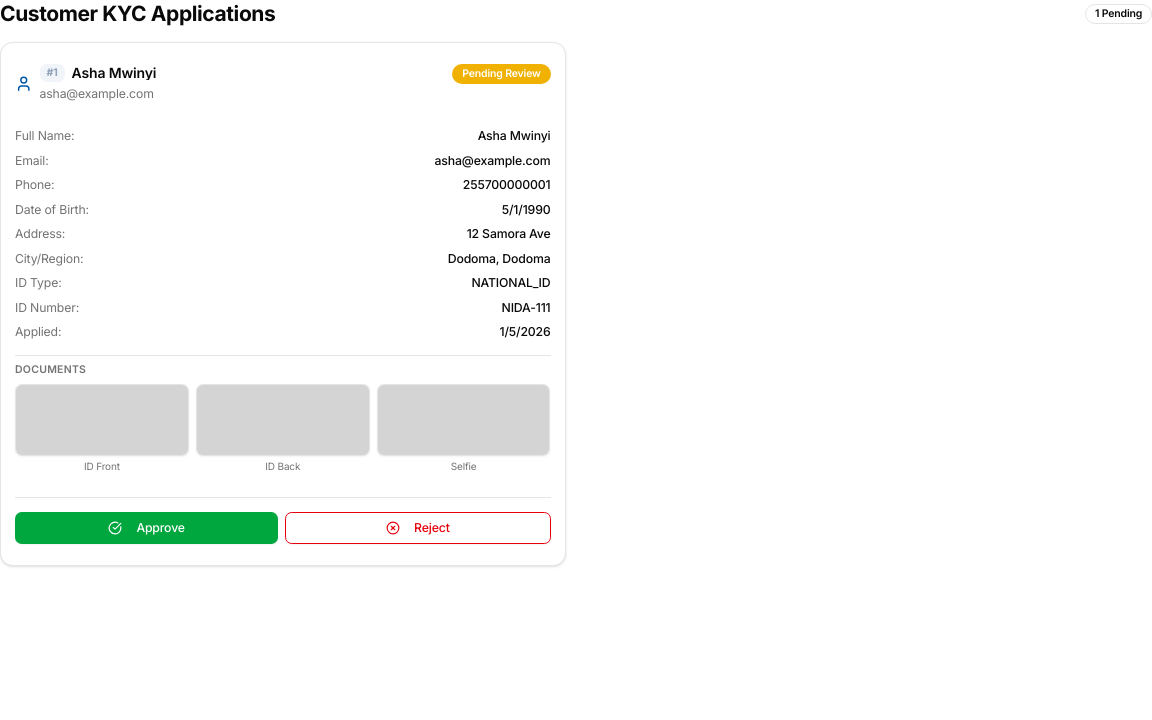
Test: CustomerKYCApprovalTab › rejecting › opens the rejection dialog naming the customer
Click the button "Reject" at (418, 528), box [285, 512, 551, 544]
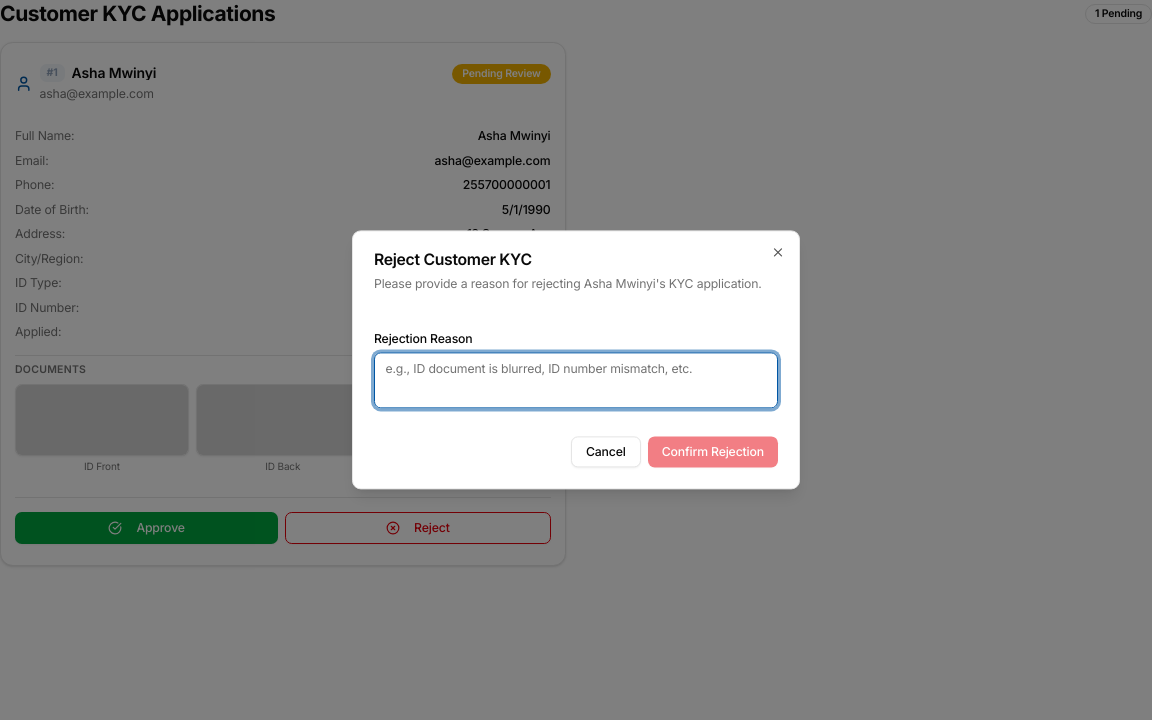
Expected: the text "Asha Mwinyi's KYC application" is shown, [374, 275, 778, 293]
